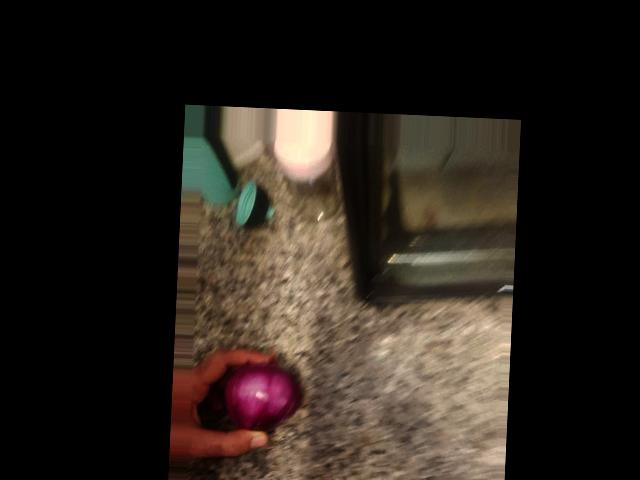onion: (413, 345, 491, 437)
